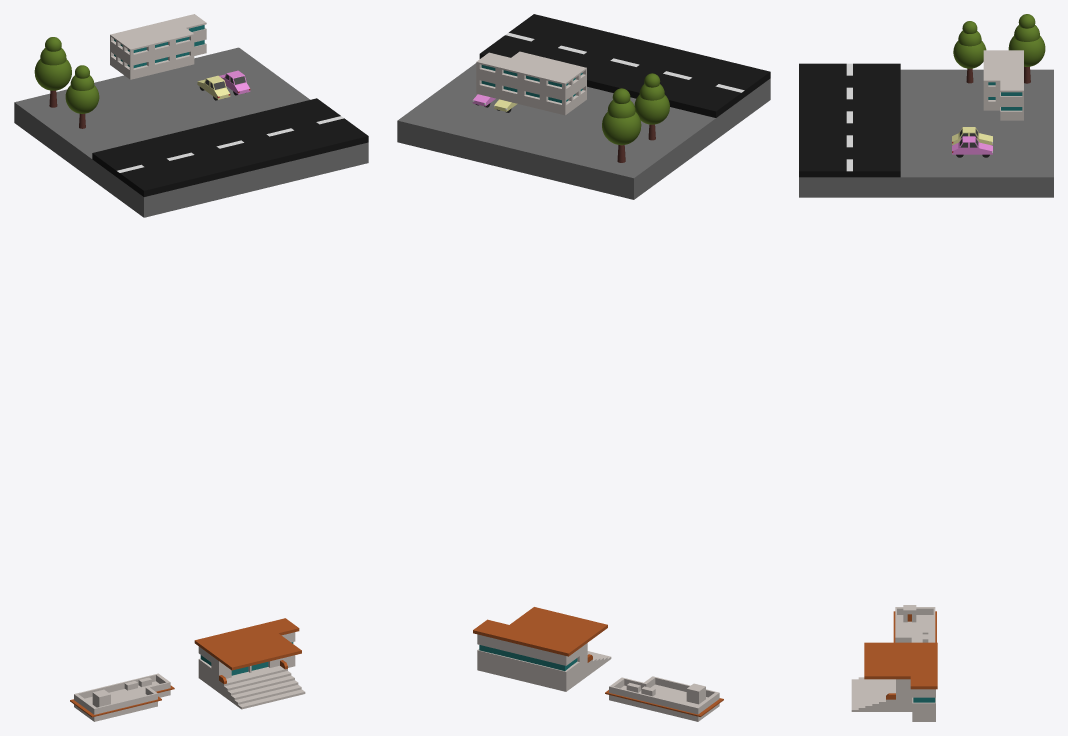
3 renders of one model, left to right at view 1: azimuth 30°, elevation 25°; view 2: azimuth 150°, elevation 25°; view 3: azimuth 270°, elevation 25°, orthographic. The views are drawn at different scales.
Visible parts, largest first — view 1: Floor, Building_floor, Building, Building_floor_upper, tree; view 2: Floor, Building_floor, Building, Building_floor_upper, tree; view 3: Floor, Building_floor, Building, tree, Building_floor_upper, car.001.
Part boxes in pixels (x1,y1,x2,y2): Floor: (14, 47, 368, 217); Building_floor: (194, 618, 305, 709); Building: (110, 14, 206, 79); Building_floor_upper: (70, 673, 174, 721); tree: (34, 37, 99, 128); Floor: (397, 14, 770, 199); Building_floor: (473, 607, 611, 691); Building: (476, 51, 586, 115); Building_floor_upper: (605, 676, 723, 721); tree: (602, 73, 669, 162); Floor: (799, 63, 1053, 197); Building_floor: (851, 642, 937, 721); Building: (983, 50, 1023, 120); tree: (953, 14, 1045, 83); Building_floor_upper: (893, 605, 936, 642); car.001: (952, 136, 992, 157).
Size of the model in its own units: 3.79 by 9.99 by 3.72.
